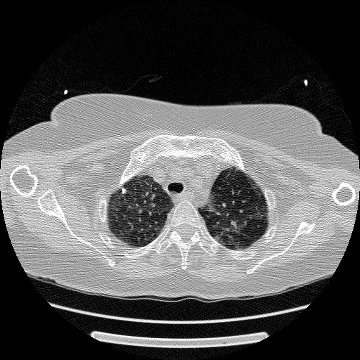nodule: (121, 188, 125, 192)
